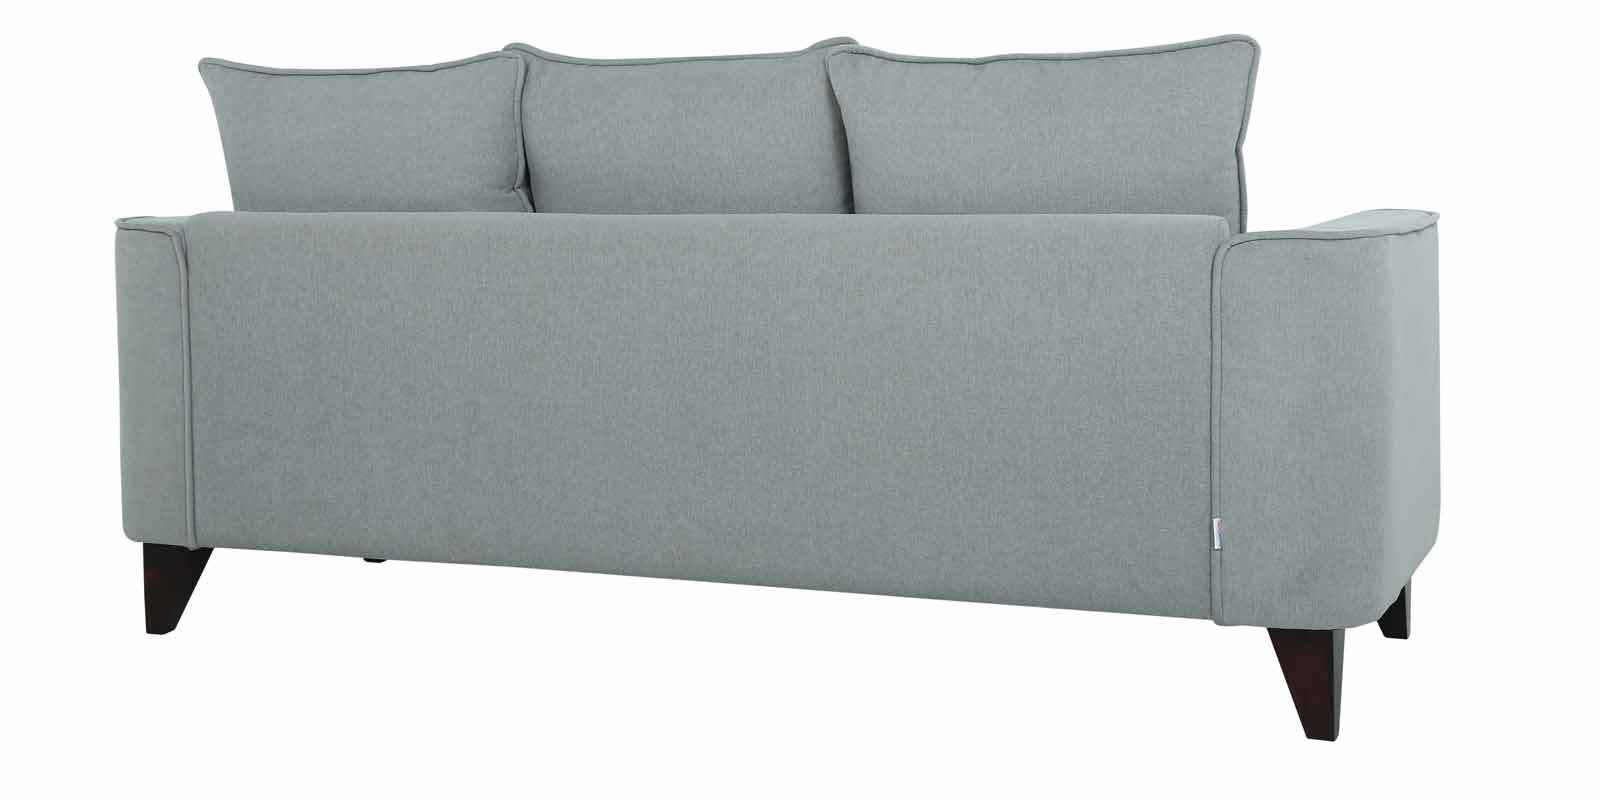Lara Three Seater Sofa in Ash Grey Colour by CasaCraft: (115, 31, 1439, 741)
